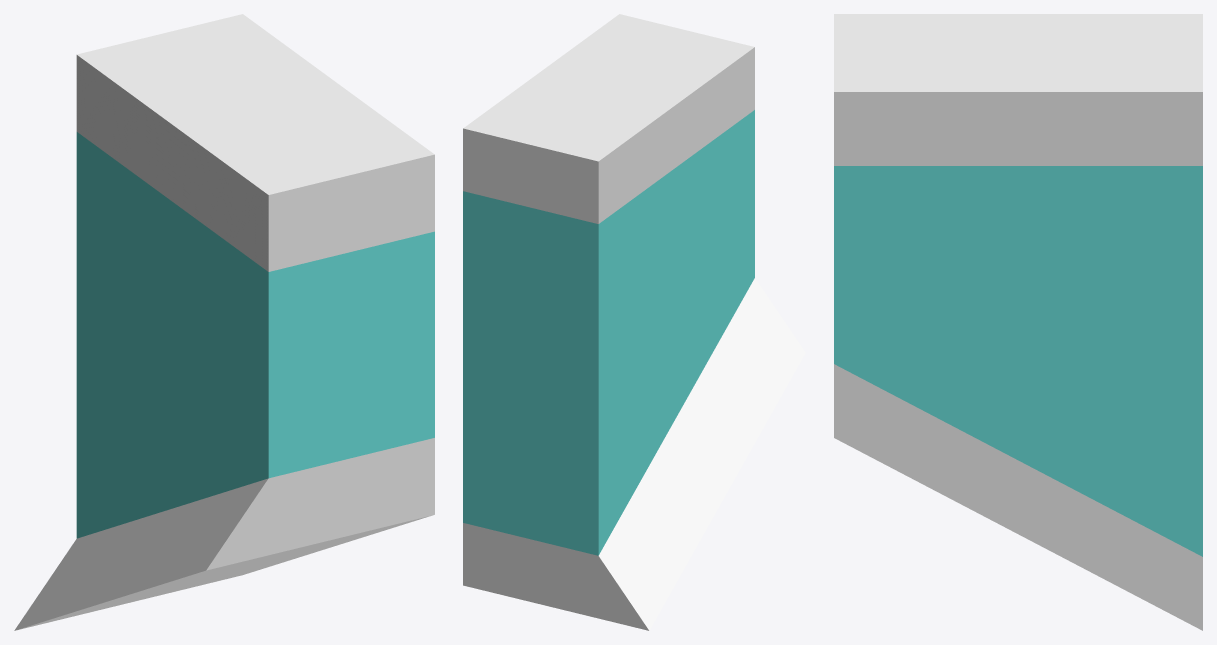
The model's file is WallLowToMid.fbx.
3 views of the same model, side by side, from view 1: azimuth 30°, elevation 25°; view 2: azimuth 150°, elevation 25°; view 3: azimuth 270°, elevation 25° (orthographic). The views are drawn at different scales.
Parts seen in each view (by area): view 1: LowToMid; view 2: LowToMid; view 3: LowToMid.
Boxes of the visible parts, box(x1,y1,x2,y2) form: LowToMid: box(14, 14, 434, 630); LowToMid: box(463, 14, 805, 630); LowToMid: box(834, 14, 1202, 630).
Bounding box in the file's own units: 54.17 × 127 × 78.74.
